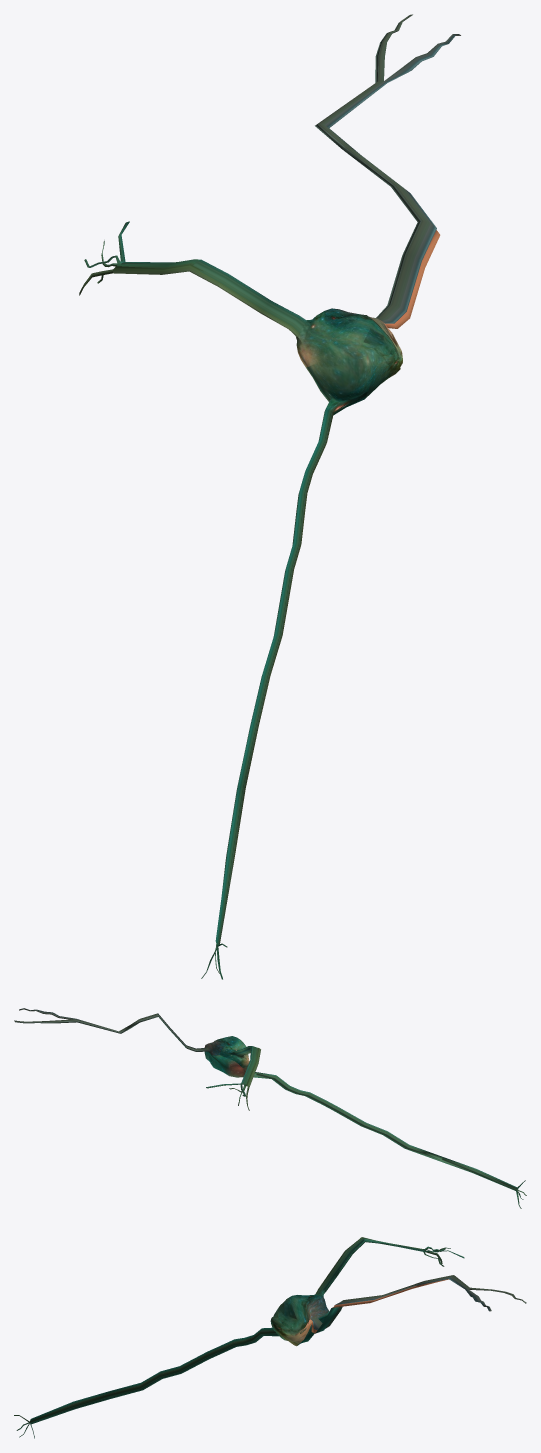
Rendered from neuron4.fbx.
3 renders of one model, top to bottom at view 1: azimuth 30°, elevation 25°; view 2: azimuth 150°, elevation 25°; view 3: azimuth 270°, elevation 25°, orthographic. The views are drawn at different scales.
Parts seen in each view (by area): view 1: DONE1.001 ex; view 2: DONE1.001 ex; view 3: DONE1.001 ex.
Part boxes in pixels (x1,y1,x2,y2): DONE1.001 ex: (79,14,460,979); DONE1.001 ex: (14,1008,526,1208); DONE1.001 ex: (14,1237,526,1438).
Bounding box in the file's own units: 10168 × 8005 × 11692.
